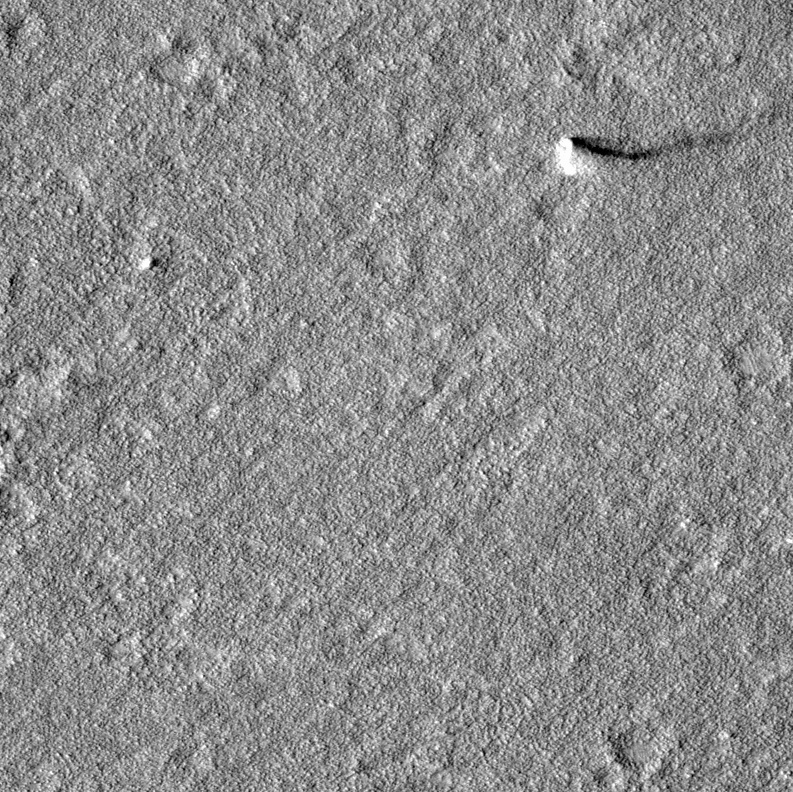dust_devil: (553, 128, 735, 179)
